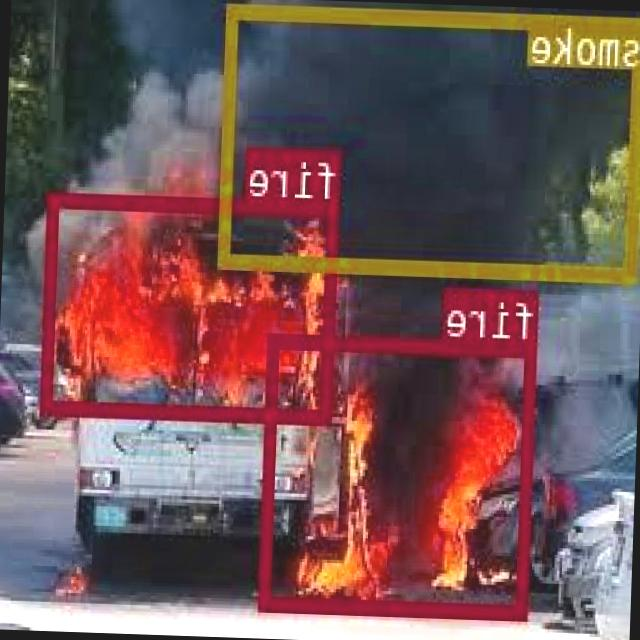fire: (262, 332, 538, 616), (41, 190, 342, 422)
smoke: (221, 2, 640, 277)
